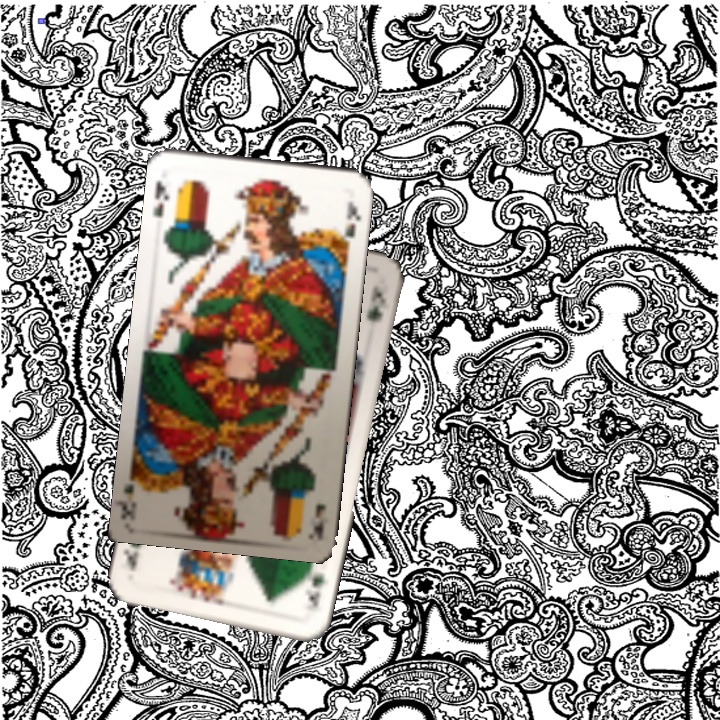EK: (149, 176, 173, 219), (308, 499, 328, 537)
GK: (301, 560, 329, 613)
